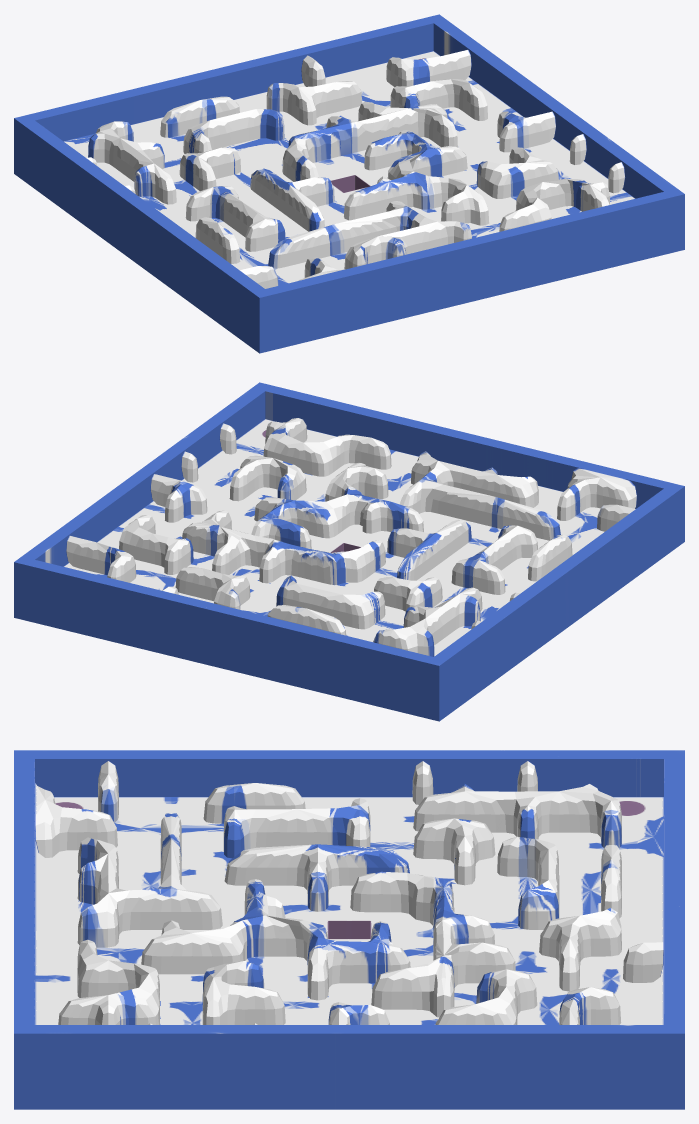
Rendered from Maze.obj.
3 views of the same model, one above another, from view 1: azimuth 30°, elevation 25°; view 2: azimuth 150°, elevation 25°; view 3: azimuth 270°, elevation 25° (orthographic). The views are drawn at different scales.
Visible parts, largest first — view 1: Plane.002; view 2: Plane.002; view 3: Plane.002.
Boxes of the visible parts, x1,y1,x2,y2 form: Plane.002: [14, 14, 684, 353]; Plane.002: [14, 382, 684, 721]; Plane.002: [14, 750, 684, 1109].
Size of the model in its own units: 16 by 2 by 16.
